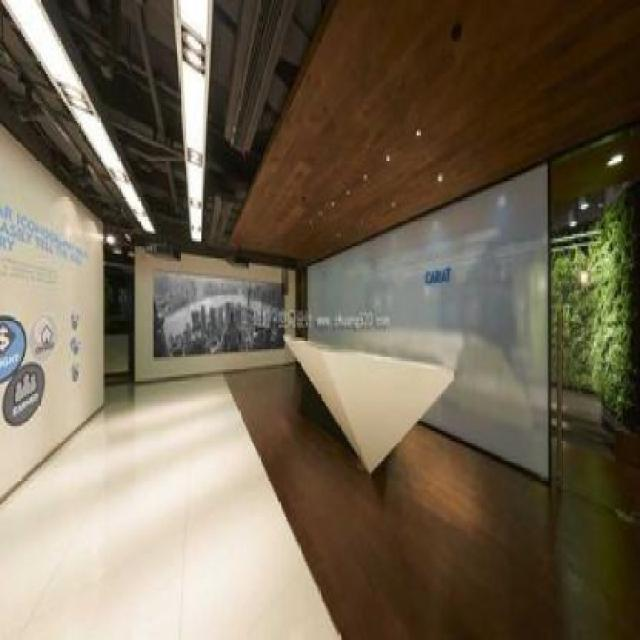frontdesk: (272, 320, 464, 489)
